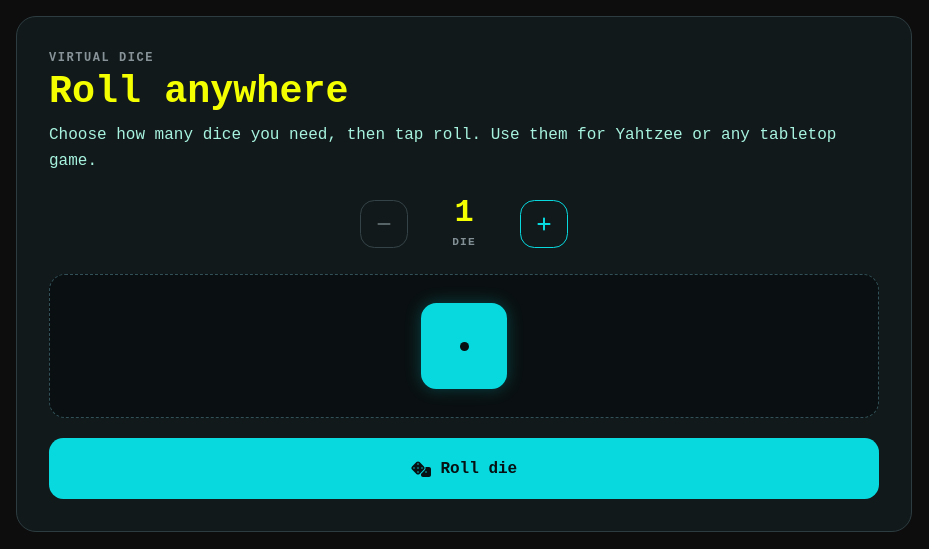
Test: rolls a single virtual die
Click the button "Roll die" at (464, 469), box [49,438,879,499]
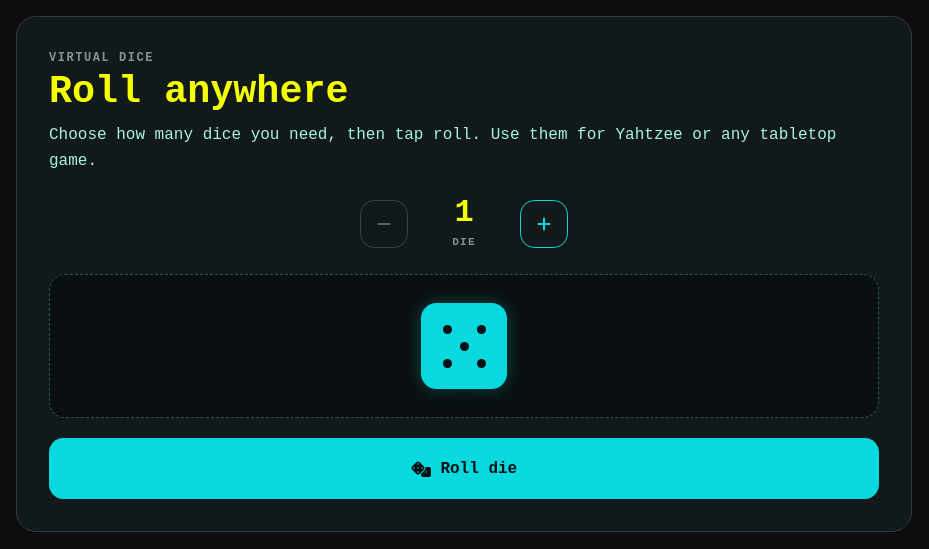
expect the button named "6" is shown: met, box [421,303,507,390]
